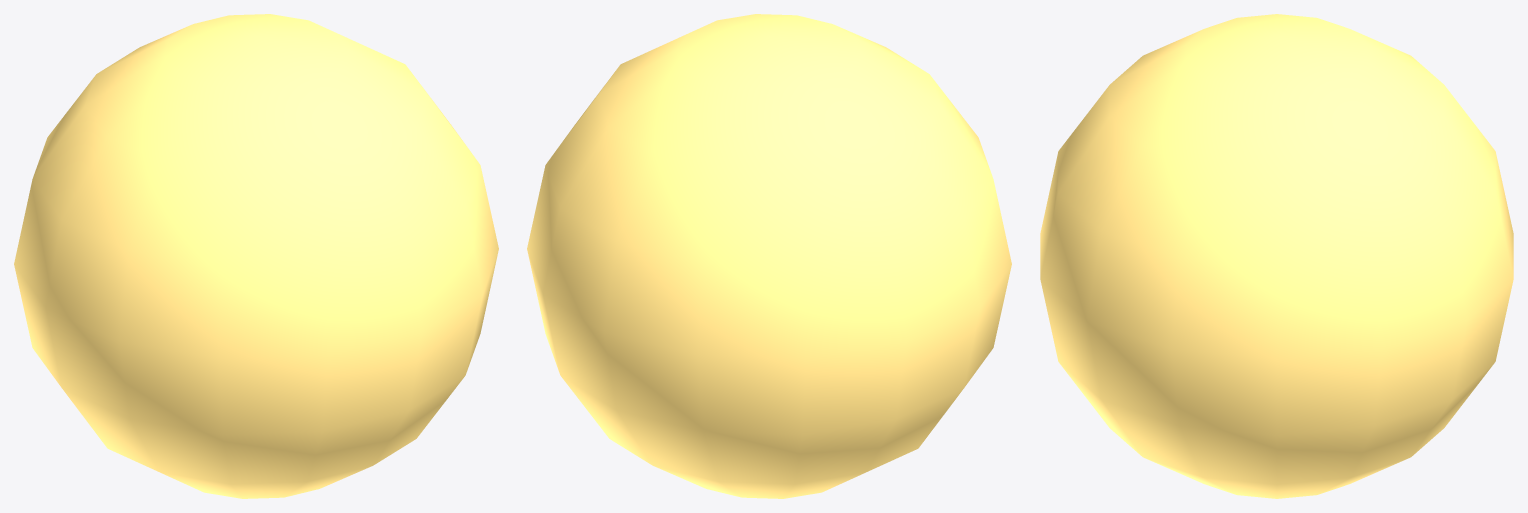
Rendered from node_event.glb.
The picture shows the model from 3 angles, left to right: view 1: azimuth 30°, elevation 25°; view 2: azimuth 150°, elevation 25°; view 3: azimuth 270°, elevation 25°; orthographic projection.
Bounding box in the file's own units: 2 × 2 × 1.95.
